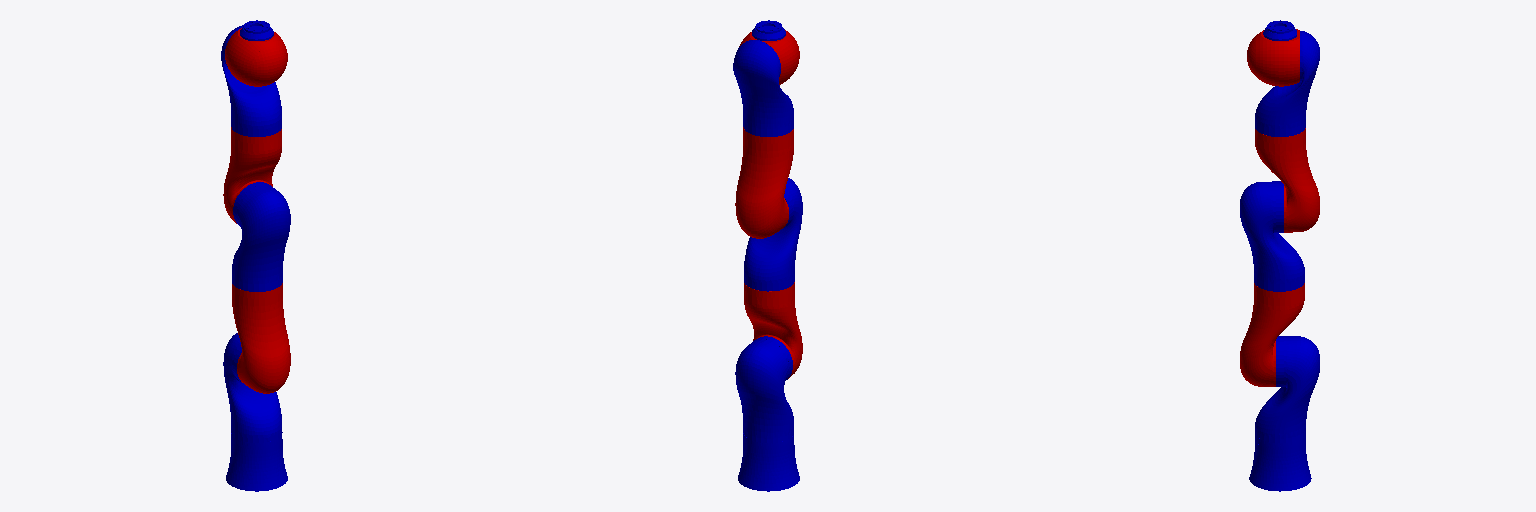
The robot description file, URDF, robot "lbr":
<?xml version="1.0" ?>
<!-- =================================================================================== -->
<!-- |    This document was autogenerated by xacro from lbr.xacro                      | -->
<!-- |    EDITING THIS FILE BY HAND IS NOT RECOMMENDED                                 | -->
<!-- =================================================================================== -->
<robot name="lbr" xmlns:xacro="http://ros.org/wiki/xacro">
  <!-- Import all Gazebo-customization elements, including Gazebo colors -->
  <!-- ros_control plugin -->
  <gazebo>
    <plugin filename="libgazebo_ros_control.so" name="gazebo_ros_control">
      <robotNamespace>/lbr</robotNamespace>
      <robotSimType>gazebo_ros_control/DefaultRobotHWSim</robotSimType>
    </plugin>
  </gazebo>
  <!-- Link0 -->
  <gazebo reference="lbr_0_link">
    <material>Gazebo/Blue</material>
  </gazebo>
  <!-- Link1 -->
  <gazebo reference="lbr_1_link">
    <material>Gazebo/Red</material>
  </gazebo>
  <!-- Link2 -->
  <gazebo reference="lbr_2_link">
    <material>Gazebo/Blue</material>
  </gazebo>
  <!-- Link3 -->
  <gazebo reference="lbr_3_link">
    <material>Gazebo/Red</material>
  </gazebo>
  <!-- Link4 -->
  <gazebo reference="lbr_4_link">
    <material>Gazebo/Blue</material>
  </gazebo>
  <!-- Link5 -->
  <gazebo reference="lbr_5_link">
    <material>Gazebo/Red</material>
  </gazebo>
  <!-- Link6 -->
  <gazebo reference="lbr_6_link">
    <material>Gazebo/Blue</material>
  </gazebo>
  <!-- Link7 -->
  <gazebo reference="lbr_7_link">
    <material>Gazebo/Red</material>
  </gazebo>
  <!-- Import Rviz colors -->
  <material name="Blue">
    <color rgba="0.0 0.0 0.8 1.0"/>
  </material>
  <material name="Green">
    <color rgba="0.0 0.8 0.0 1.0"/>
  </material>
  <material name="Grey">
    <color rgba="0.7 0.7 0.7 1.0"/>
  </material>
  <material name="Grey2">
    <color rgba="0.9 0.9 0.9 1.0"/>
  </material>
  <material name="Red">
    <color rgba="0.8 0.0 0.0 1.0"/>
  </material>
  <material name="orange">
    <color rgba="1.0 0.423529411765 0.0392156862745 1.0"/>
  </material>
  <material name="brown">
    <color rgba="0.870588235294 0.811764705882 0.764705882353 1.0"/>
  </material>
  <material name="White">
    <color rgba="1.0 1.0 1.0 1.0"/>
  </material>
  <material name="Black">
    <color rgba="0.0 0.0 0.0 1.0"/>
  </material>
  <!-- Used for fixing robot to Gazebo 'base_link' -->
  <!--<link name="world"/>
		
		<joint name="fixed" type="fixed">
		  <parent link="world"/>
		  <child link="${name}_0_link"/>
		</joint>-->
  <link name="lbr_0_link">
    <inertial>
      <origin rpy="0 0 0" xyz="0 0 0"/>
      <mass value="1.0"/>
      <inertia ixx="0.01" ixy="0" ixz="0" iyy="0.01" iyz="0" izz="0.01"/>
    </inertial>
    <visual>
      <origin rpy="0 0 0" xyz="0 0 0"/>
      <geometry>
        <mesh filename="package://omnirob_description/meshes/lbr0.stl"/>
      </geometry>
      <material name="Blue"/>
    </visual>
    <collision>
      <origin rpy="0 0 0" xyz="0 0 0"/>
      <geometry>
        <mesh filename="package://omnirob_description/meshes/lbr0_low_res.stl"/>
      </geometry>
    </collision>
  </link>
  <!-- joint between arm_0_link and arm_1_link -->
  <joint name="lbr_1_joint" type="revolute">
    <!--<origin xyz="0 0 0.14" rpy="0 0 -2.8407"/> -->
    <origin rpy="0 0 0" xyz="0 0 0.1105"/>
    <parent link="lbr_0_link"/>
    <child link="lbr_1_link"/>
    <axis xyz="0 0 1"/>
    <dynamics damping="25"/>
    <limit effort="200" lower="-2.9670" upper="2.9670" velocity="1.9634"/>
  </joint>
  <link name="lbr_1_link">
    <inertial>
      <origin rpy="0 0 0" xyz="0 0 0"/>
      <mass value="5.9907"/>
      <inertia ixx="0.01" ixy="0" ixz="0" iyy="0.01" iyz="0" izz="0.01"/>
    </inertial>
    <visual>
      <origin rpy="0 0 0" xyz="0 0 0"/>
      <geometry>
        <mesh filename="package://omnirob_description/meshes/lbr1.stl"/>
      </geometry>
      <material name="Blue"/>
    </visual>
    <collision>
      <origin rpy="0 0 0" xyz="0 0 0"/>
      <geometry>
        <mesh filename="package://omnirob_description/meshes/lbr1_low_res.stl"/>
      </geometry>
    </collision>
  </link>
  <!-- joint between arm_1_link and arm_2_link -->
  <joint name="lbr_2_joint" type="revolute">
    <origin rpy="1.5708 0 0" xyz="0 0 0.1915"/>
    <parent link="lbr_1_link"/>
    <child link="lbr_2_link"/>
    <axis xyz="0 0 1"/>
    <dynamics damping="25"/>
    <limit effort="200" lower="-2.0943" upper="2.0943" velocity="1.9634"/>
  </joint>
  <link name="lbr_2_link">
    <inertial>
      <origin rpy="0 0 0" xyz="0 0 0.002"/>
      <mass value="5.734939"/>
      <inertia ixx="0.03" ixy="0" ixz="0" iyy="0.03" iyz="0" izz="0.03"/>
    </inertial>
    <visual>
      <origin rpy="0 0 0" xyz="0 0 0.002"/>
      <geometry>
        <mesh filename="package://omnirob_description/meshes/lbr2.stl"/>
      </geometry>
      <material name="Red"/>
    </visual>
    <collision>
      <origin rpy="0 0 0" xyz="0 0 0.002"/>
      <geometry>
        <mesh filename="package://omnirob_description/meshes/lbr2_low_res.stl"/>
      </geometry>
    </collision>
  </link>
  <!-- joint between arm_2_link and arm_3_link -->
  <joint name="lbr_3_joint" type="revolute">
    <origin rpy="-1.5708 0 0" xyz="0 0.2085 0"/>
    <parent link="lbr_2_link"/>
    <child link="lbr_3_link"/>
    <axis xyz="0 0 1"/>
    <dynamics damping="25"/>
    <limit effort="100" lower="-2.9670" upper="2.9670" velocity="1.9634"/>
  </joint>
  <link name="lbr_3_link">
    <inertial>
      <origin rpy="0 0 0" xyz="0 -0.002 0"/>
      <mass value="4.214668"/>
      <inertia ixx="0.03" ixy="0" ixz="0" iyy="0.03" iyz="0" izz="0.03"/>
    </inertial>
    <visual>
      <origin rpy="0 0 0" xyz="0 -0.002 0"/>
      <geometry>
        <mesh filename="package://omnirob_description/meshes/lbr3.stl"/>
      </geometry>
      <material name="Blue"/>
    </visual>
    <collision>
      <origin rpy="0 0 0" xyz="0 -0.002 0"/>
      <geometry>
        <mesh filename="package://omnirob_description/meshes/lbr3_low_res.stl"/>
      </geometry>
    </collision>
  </link>
  <!-- joint between arm_3_link and arm_4_link -->
  <joint name="lbr_4_joint" type="revolute">
    <origin rpy="-1.5708 0 0" xyz="0 0 0.1915"/>
    <parent link="lbr_3_link"/>
    <child link="lbr_4_link"/>
    <axis xyz="0 0 1"/>
    <dynamics damping="25"/>
    <limit effort="100" lower="-2.0943" upper="2.0943" velocity="1.9634"/>
  </joint>
  <link name="lbr_4_link">
    <inertial>
      <origin rpy="0 0 0" xyz="0 0 0"/>
      <mass value="3.669819"/>
      <inertia ixx="0.03" ixy="0" ixz="0" iyy="0.03" iyz="0" izz="0.03"/>
    </inertial>
    <visual>
      <origin rpy="0 0 0" xyz="0 0 0"/>
      <geometry>
        <mesh filename="package://omnirob_description/meshes/lbr4.stl"/>
      </geometry>
      <material name="Red"/>
    </visual>
    <collision>
      <origin rpy="0 0 0" xyz="0 0 0"/>
      <geometry>
        <mesh filename="package://omnirob_description/meshes/lbr4_low_res.stl"/>
      </geometry>
    </collision>
  </link>
  <!-- joint between arm_4_link and arm_5_link -->
  <joint name="lbr_5_joint" type="revolute">
    <origin rpy="1.5708 0 0" xyz="0 -0.2085 0"/>
    <parent link="lbr_4_link"/>
    <child link="lbr_5_link"/>
    <axis xyz="0 0 1"/>
    <dynamics damping="25"/>
    <limit effort="100" lower="-2.9670" upper="2.9670" velocity="3.1415926"/>
  </joint>
  <link name="lbr_5_link">
    <inertial>
      <origin rpy="0 0 0" xyz="0 0 0"/>
      <mass value="2.313272"/>
      <inertia ixx="0.03" ixy="0" ixz="0" iyy="0.03" iyz="0" izz="0.03"/>
    </inertial>
    <visual>
      <origin rpy="0 0 0" xyz="0 0 0"/>
      <geometry>
        <mesh filename="package://omnirob_description/meshes/lbr5.stl"/>
      </geometry>
      <material name="Blue"/>
    </visual>
    <collision>
      <origin rpy="0 0 0" xyz="0 0 0"/>
      <geometry>
        <mesh filename="package://omnirob_description/meshes/lbr5_low_res.stl"/>
      </geometry>
    </collision>
  </link>
  <!-- joint between arm_5_link and arm_6_link -->
  <joint name="lbr_6_joint" type="revolute">
    <origin rpy="1.5708 0 0" xyz="0 0 0.1815"/>
    <parent link="lbr_5_link"/>
    <child link="lbr_6_link"/>
    <axis xyz="0 0 1"/>
    <dynamics damping="25"/>
    <limit effort="30" lower="-2.0943951" upper="2.0943951" velocity="1.9634"/>
  </joint>
  <link name="lbr_6_link">
    <inertial>
      <origin rpy="0 0 0" xyz="0 0 0"/>
      <mass value="2.057856"/>
      <inertia ixx="0.01" ixy="0" ixz="0" iyy="0.01" iyz="0" izz="0.01"/>
    </inertial>
    <visual>
      <origin rpy="0 0 0" xyz="0 0 -0.046"/>
      <geometry>
        <mesh filename="package://omnirob_description/meshes/lbr6.stl"/>
      </geometry>
      <material name="Red"/>
    </visual>
    <collision>
      <origin rpy="0 0 0" xyz="0 0 -0.046"/>
      <geometry>
        <mesh filename="package://omnirob_description/meshes/lbr6_low_res.stl"/>
      </geometry>
    </collision>
  </link>
  <!-- joint between arm_6_link and arm_7_link -->
  <joint name="lbr_7_joint" type="revolute">
    <origin rpy="-1.5708 0 0" xyz="0 0.057 0"/>
    <parent link="lbr_6_link"/>
    <child link="lbr_7_link"/>
    <axis xyz="0 0 1"/>
    <dynamics damping="25"/>
    <limit effort="30" lower="-2.9670" upper="2.9670" velocity="1.9634"/>
  </joint>
  <link name="lbr_7_link">
    <inertial>
      <origin rpy="0 0 0" xyz="0 0 0"/>
      <mass value="1.120198"/>
      <inertia ixx="0.01" ixy="0" ixz="0" iyy="0.01" iyz="0" izz="0.01"/>
    </inertial>
    <visual>
      <origin rpy="0 0 0" xyz="0 0 0"/>
      <geometry>
        <mesh filename="package://omnirob_description/meshes/lbr7.stl"/>
      </geometry>
      <material name="Blue"/>
    </visual>
    <collision>
      <origin rpy="0 0 0" xyz="0 0 0"/>
      <geometry>
        <mesh filename="package://omnirob_description/meshes/lbr7_low_res.stl"/>
      </geometry>
    </collision>
  </link>
  <joint name="flange" type="fixed">
    <parent link="lbr_7_link"/>
    <child link="lbr_flange_link"/>
    <origin rpy="0 0 0" xyz="0 0 0.0195"/>
  </joint>
  <link name="lbr_flange_link">
		</link>
  <transmission name="lbr_1_joint_trans">
    <type>pr2_mechanism_model/SimpleTransmission</type>
    <joint name="lbr_1_joint">
      <hardwareInterface>EffortJointInterface</hardwareInterface>
    </joint>
    <actuator name="lbr_1_joint_motor">
      <hardwareInterface>EffortJointInterface</hardwareInterface>
      <mechanicalReduction>1</mechanicalReduction>
    </actuator>
  </transmission>
  <transmission name="lbr_2_joint_trans">
    <type>pr2_mechanism_model/SimpleTransmission</type>
    <joint name="lbr_2_joint">
      <hardwareInterface>EffortJointInterface</hardwareInterface>
    </joint>
    <actuator name="lbr_2_joint_motor">
      <hardwareInterface>EffortJointInterface</hardwareInterface>
      <mechanicalReduction>1</mechanicalReduction>
    </actuator>
  </transmission>
  <transmission name="lbr_3_joint_trans">
    <type>pr2_mechanism_model/SimpleTransmission</type>
    <joint name="lbr_3_joint">
      <hardwareInterface>EffortJointInterface</hardwareInterface>
    </joint>
    <actuator name="lbr_3_joint_motor">
      <hardwareInterface>EffortJointInterface</hardwareInterface>
      <mechanicalReduction>1</mechanicalReduction>
    </actuator>
  </transmission>
  <transmission name="lbr_4_joint_trans">
    <type>pr2_mechanism_model/SimpleTransmission</type>
    <joint name="lbr_4_joint">
      <hardwareInterface>EffortJointInterface</hardwareInterface>
    </joint>
    <actuator name="lbr_4_joint_motor">
      <hardwareInterface>EffortJointInterface</hardwareInterface>
      <mechanicalReduction>1</mechanicalReduction>
    </actuator>
  </transmission>
  <transmission name="lbr_5_joint_trans">
    <type>pr2_mechanism_model/SimpleTransmission</type>
    <actuator name="lbr_5_joint_motor">
      <hardwareInterface>EffortJointInterface</hardwareInterface>
      <mechanicalReduction>1</mechanicalReduction>
    </actuator>
    <joint name="lbr_5_joint">
      <hardwareInterface>EffortJointInterface</hardwareInterface>
    </joint>
  </transmission>
  <transmission name="lbr_6_joint_trans">
    <type>pr2_mechanism_model/SimpleTransmission</type>
    <actuator name="lbr_6_joint_motor">
      <hardwareInterface>EffortJointInterface</hardwareInterface>
      <mechanicalReduction>1</mechanicalReduction>
    </actuator>
    <joint name="lbr_6_joint">
      <hardwareInterface>EffortJointInterface</hardwareInterface>
    </joint>
  </transmission>
  <transmission name="lbr_7_joint_trans">
    <type>pr2_mechanism_model/SimpleTransmission</type>
    <actuator name="lbr_7_joint_motor">
      <hardwareInterface>EffortJointInterface</hardwareInterface>
      <mechanicalReduction>1</mechanicalReduction>
    </actuator>
    <joint name="lbr_7_joint">
      <hardwareInterface>EffortJointInterface</hardwareInterface>
    </joint>
  </transmission>
</robot>

--- Render facts (derived) ---
Views: 3 orthographic renders of the robot side by side, from view 1: azimuth 30°, elevation 25°; view 2: azimuth 150°, elevation 25°; view 3: azimuth 270°, elevation 25°.
Model lbr with 9 links and 8 joints (7 revolute, 1 fixed), rooted at lbr_0_link, posed all joints at 0.
Visible links, largest first — view 1: lbr_3_link, lbr_2_link, lbr_1_link, lbr_5_link, lbr_4_link, lbr_0_link, lbr_6_link, lbr_7_link; view 2: lbr_1_link, lbr_4_link, lbr_5_link, lbr_3_link, lbr_2_link, lbr_0_link, lbr_6_link, lbr_7_link; view 3: lbr_3_link, lbr_1_link, lbr_4_link, lbr_2_link, lbr_5_link, lbr_0_link, lbr_6_link, lbr_7_link.
Link boxes in pixels (x1=…): lbr_3_link: x1=232, y1=182, x2=290, y2=291; lbr_2_link: x1=232, y1=283, x2=290, y2=393; lbr_1_link: x1=223, y1=333, x2=281, y2=445; lbr_5_link: x1=221, y1=25, x2=281, y2=136; lbr_4_link: x1=223, y1=127, x2=281, y2=223; lbr_0_link: x1=226, y1=432, x2=287, y2=491; lbr_6_link: x1=225, y1=28, x2=287, y2=86; lbr_7_link: x1=240, y1=20, x2=273, y2=40; lbr_1_link: x1=735, y1=336, x2=793, y2=445; lbr_4_link: x1=735, y1=127, x2=793, y2=238; lbr_5_link: x1=733, y1=40, x2=793, y2=136; lbr_3_link: x1=744, y1=178, x2=802, y2=291; lbr_2_link: x1=744, y1=282, x2=802, y2=378; lbr_0_link: x1=738, y1=433, x2=799, y2=491; lbr_6_link: x1=739, y1=30, x2=799, y2=84; lbr_7_link: x1=752, y1=20, x2=785, y2=40; lbr_3_link: x1=1240, y1=181, x2=1304, y2=291; lbr_1_link: x1=1255, y1=336, x2=1319, y2=445; lbr_4_link: x1=1255, y1=128, x2=1319, y2=232; lbr_2_link: x1=1240, y1=283, x2=1304, y2=386; lbr_5_link: x1=1255, y1=31, x2=1319, y2=136; lbr_0_link: x1=1249, y1=434, x2=1311, y2=491; lbr_6_link: x1=1247, y1=29, x2=1299, y2=86; lbr_7_link: x1=1263, y1=20, x2=1296, y2=40.
Size in the robot's own frame: 0.146 by 0.1896 by 1.17 metres.
8 mesh visuals loaded from 8 distinct referenced files (8 binary STL).
